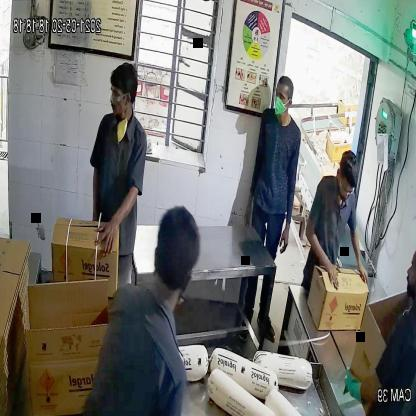goggles: (105, 88, 135, 105)
no_goggles: (271, 90, 295, 110)
